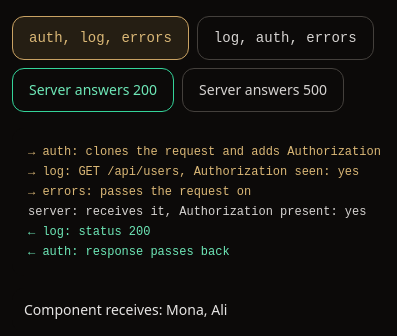
Scenario: InterceptorChainDemoComponent › shows the logger missing the token after switching the order
Click the button "log, auth, errors" at (285, 38), box [197,16,374,60]
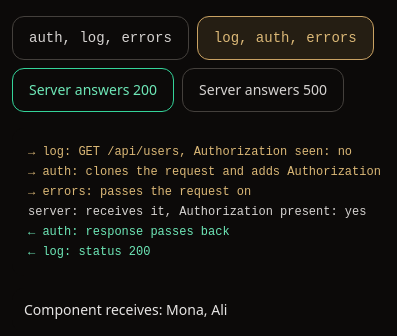
Check: the list with test id "chain-trace" shows "Authorization seen: no", box [28,145,352,159]
